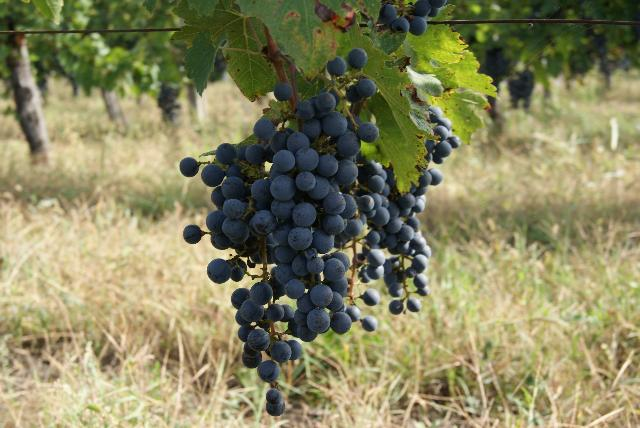grapes: (180, 119, 319, 382), (260, 91, 379, 340), (359, 160, 442, 314), (422, 106, 461, 162), (374, 0, 430, 35), (254, 190, 261, 200)
